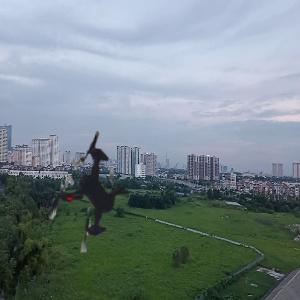drone: (6, 107, 177, 278)
